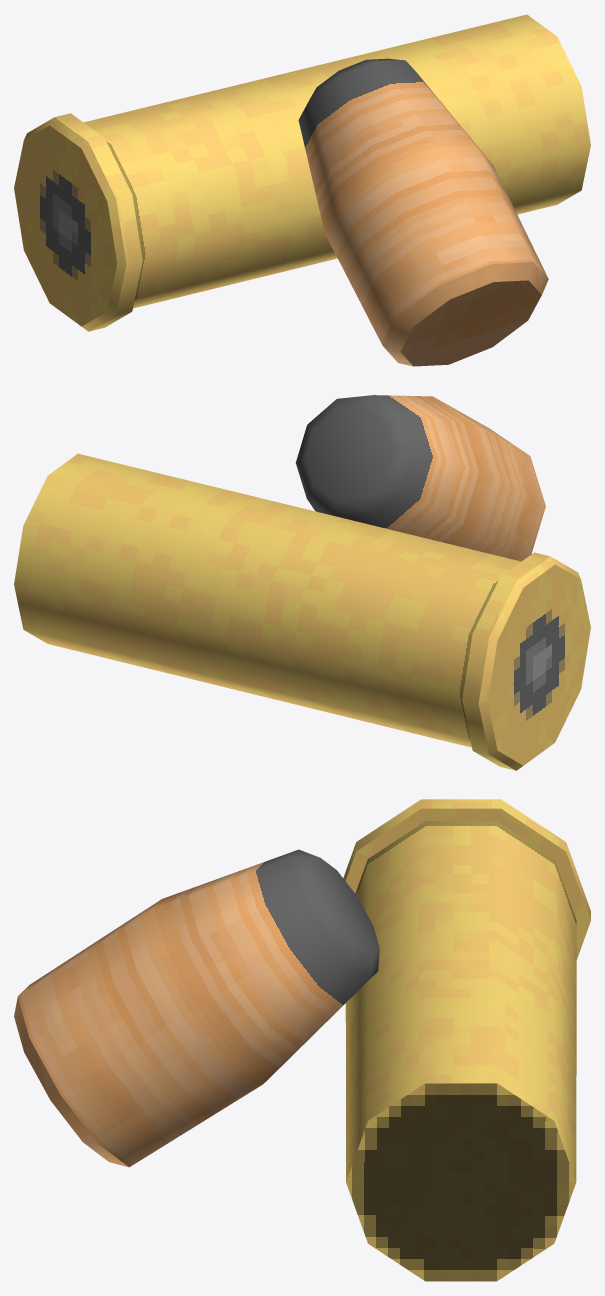
Rendered from ammomaker_PartsStraightMRim.fbx.
3 views of the same model, one above another, from view 1: azimuth 30°, elevation 25°; view 2: azimuth 150°, elevation 25°; view 3: azimuth 270°, elevation 25° (orthographic). The views are drawn at different scales.
Parts seen in each view (by area): view 1: ammomaker_PartsStraightRimM; view 2: ammomaker_PartsStraightRimM; view 3: ammomaker_PartsStraightRimM.
Part boxes in pixels (x1=…): ammomaker_PartsStraightRimM: x1=14, y1=14, x2=590, y2=366; ammomaker_PartsStraightRimM: x1=14, y1=395, x2=590, y2=770; ammomaker_PartsStraightRimM: x1=14, y1=799, x2=590, y2=1281.
Bounding box in the file's own units: 3.26 × 1.66 × 2.9.
